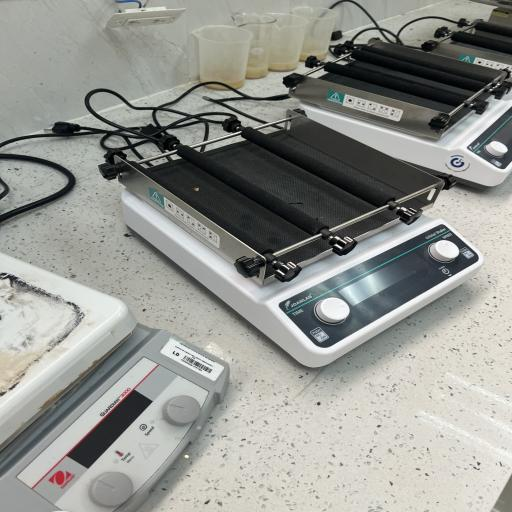Agitador_Orbital_DLAB: (90, 91, 504, 376)
